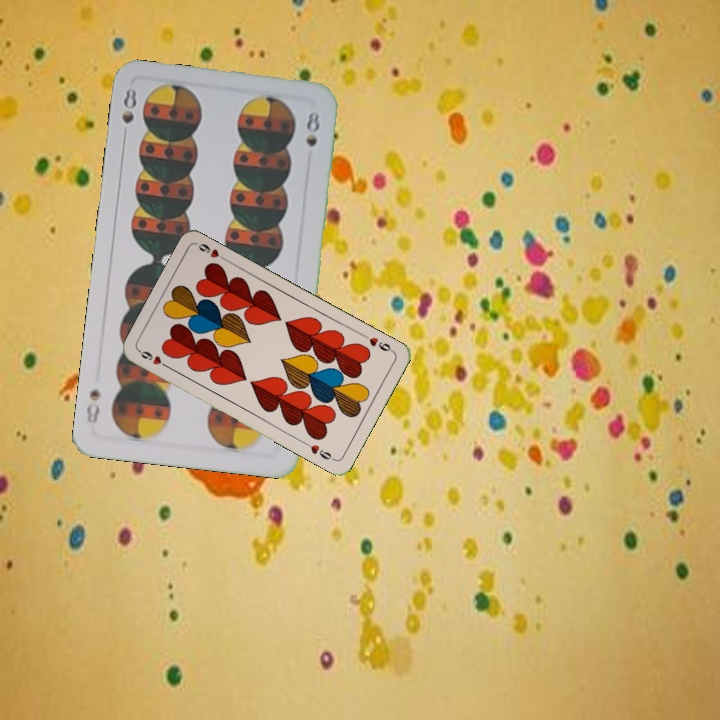H9: (359, 330, 396, 355), (135, 346, 172, 371)
S8: (118, 84, 139, 143)
